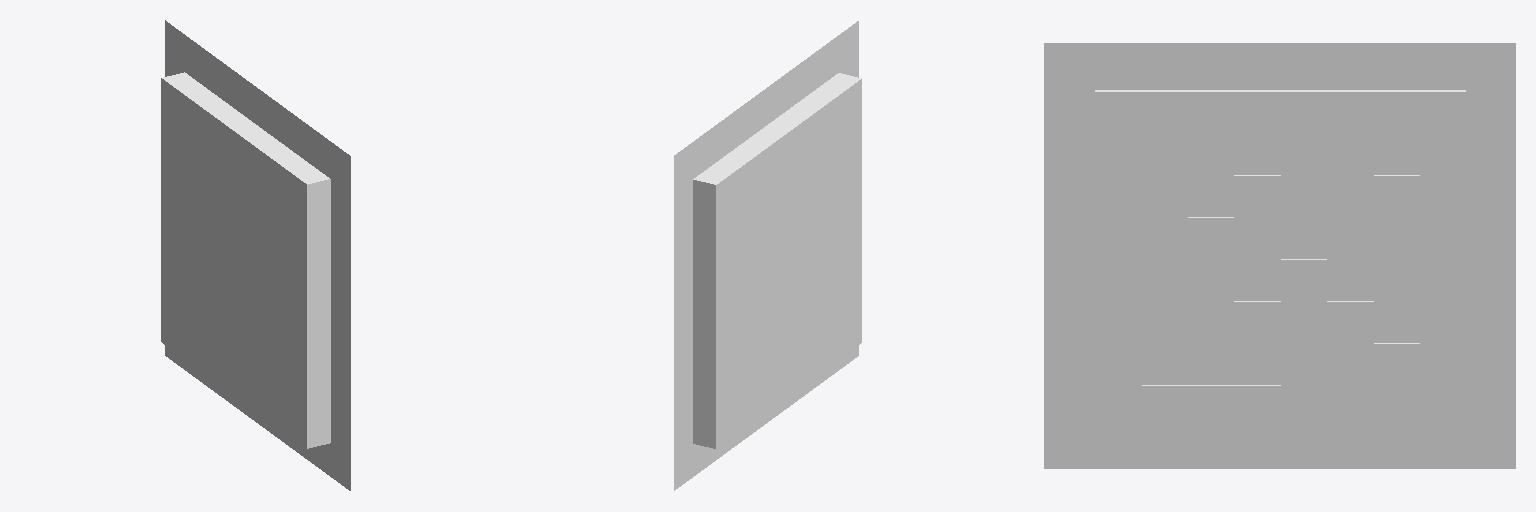
robot.urdf — aruco:
<?xml version="1.0" ?>
<robot name="aruco">
  <link name="arucoLink">
  <contact>
      <lateral_friction value="1"/>
  </contact>
    <inertial>
      <origin rpy="0 0 0" xyz="0 0 0"/>
       <mass value=".0"/>
       <inertia ixx="0" ixy="0" ixz="0" iyy="0" iyz="0" izz="0"/>
    </inertial>
    <visual>
      <origin rpy="0 0 -1.570796" xyz="0 0 0"/>
      <geometry>
				<mesh filename="aruco.obj" scale="1 1 1"/>
      </geometry>
       <material name="white">
        <color rgba="1 1 1 1"/>
      </material>
    </visual>
    <collision>
      <origin rpy="0 0 -1.570796" xyz="0 0 0"/>
      <geometry>
		<mesh filename="aruco.obj" scale="1 1 1"/>
      </geometry>
    </collision>
  </link>
</robot>

--- Render facts (derived) ---
The picture shows the robot from 3 angles, left to right: view 1: azimuth 30°, elevation 25°; view 2: azimuth 150°, elevation 25°; view 3: azimuth 270°, elevation 25°; orthographic projection.
Model aruco with 1 links and 0 joints (none), rooted at arucoLink, posed every joint at zero.
Visible links, largest first — view 1: arucoLink; view 2: arucoLink; view 3: arucoLink.
Link boxes in pixels (left/top/right/bottom): arucoLink: left=161, top=20, right=350, bottom=490; arucoLink: left=674, top=21, right=861, bottom=490; arucoLink: left=1044, top=43, right=1515, bottom=468.
Bounding box of the posed robot: 0.01 × 0.127 × 0.127 m (x, y, z).
1 mesh visuals loaded from 1 distinct referenced files (1 OBJ).
